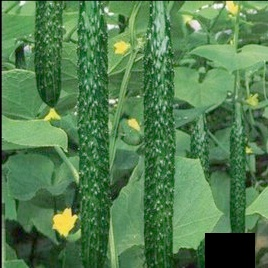cucumber: (76, 8, 108, 261), (145, 12, 170, 264), (32, 1, 61, 102), (229, 118, 249, 244)
cucumber_plant: (6, 156, 72, 235)
